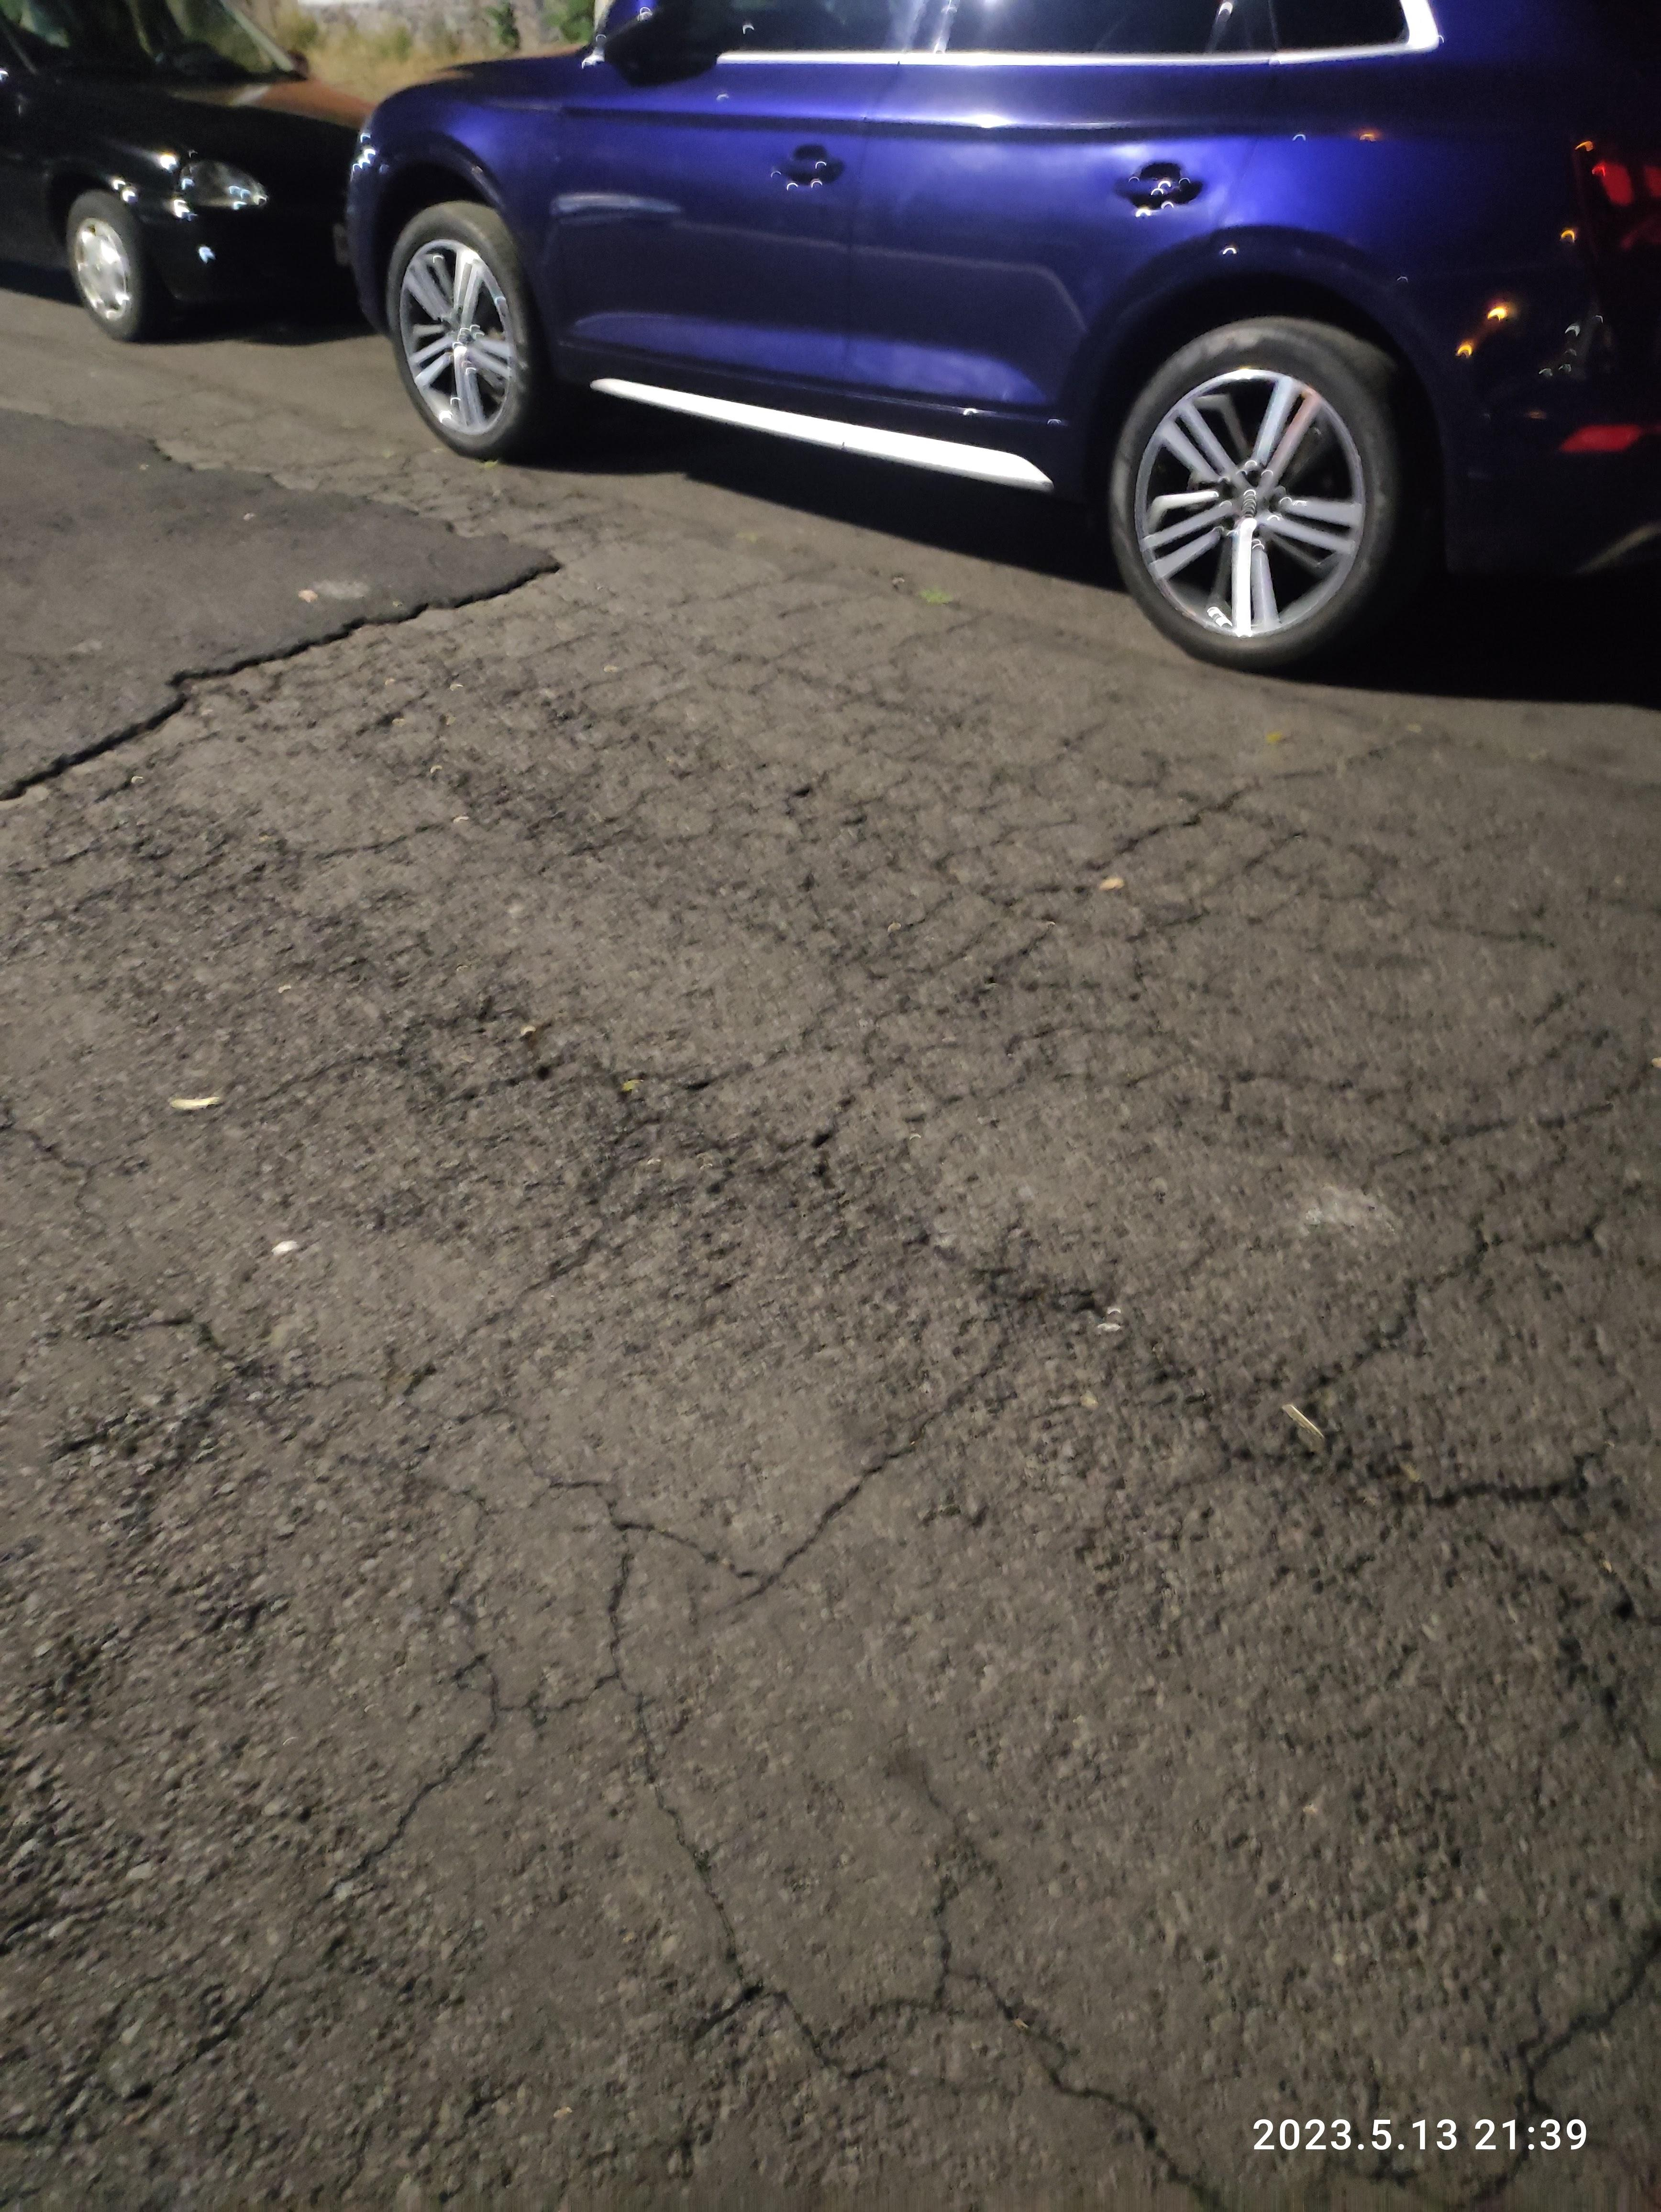alligator-crack: (1199, 911, 1642, 1437), (843, 757, 1279, 1123)
crack: (230, 1211, 846, 1720), (651, 1842, 1190, 2188), (283, 857, 574, 1143)
